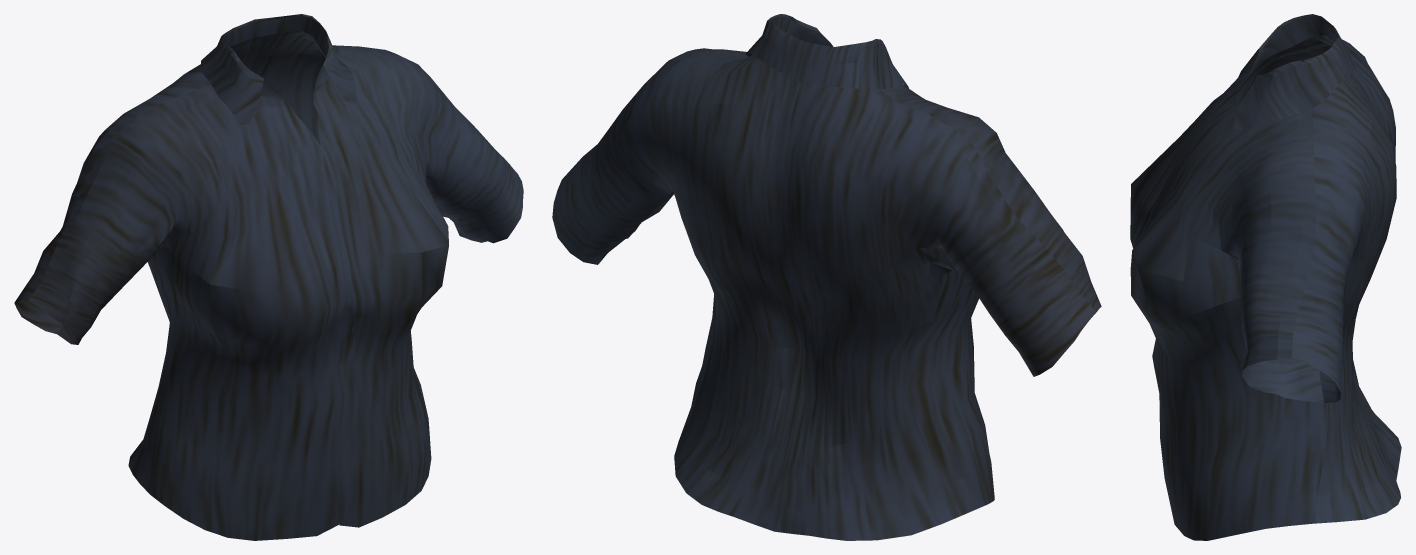
Rendered from SXL_SMF.dae.
3 views of the same model, side by side, from view 1: azimuth 30°, elevation 25°; view 2: azimuth 150°, elevation 25°; view 3: azimuth 270°, elevation 25° (orthographic). The views are drawn at different scales.
Parts seen in each view (by area): view 1: shirt01Mesh; view 2: shirt01Mesh; view 3: shirt01Mesh.
Boxes of the visible parts, x1,y1,x2,y2 form: shirt01Mesh: [14, 14, 523, 540]; shirt01Mesh: [552, 14, 1101, 540]; shirt01Mesh: [1130, 14, 1401, 540].
Bounding box in the file's own units: 6.1 × 5.45 × 2.85.
